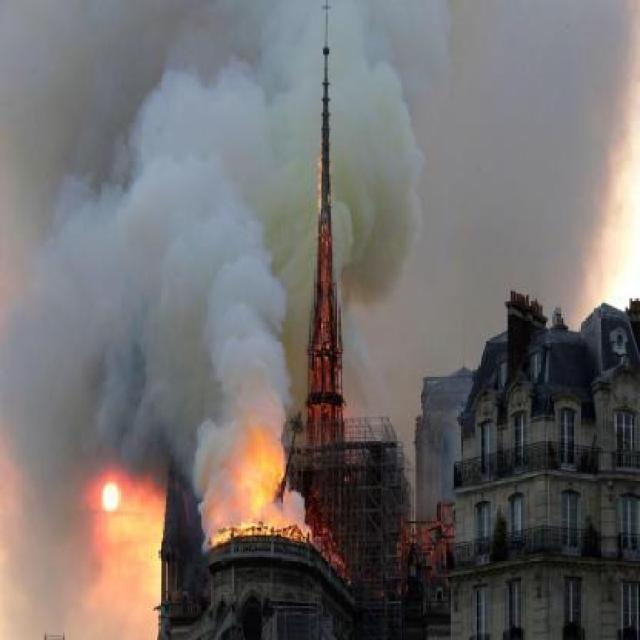Fire: (198, 508, 367, 580)
Smoke: (8, 6, 422, 544)
